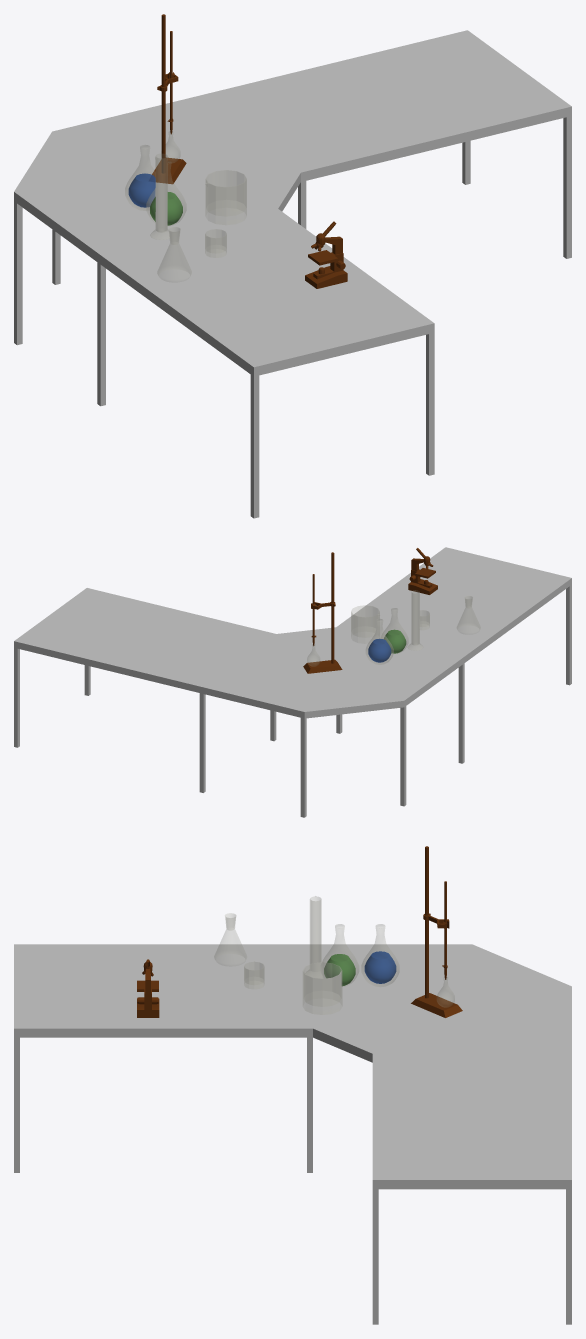
File: science_desk_2 (1).fbx
The picture shows the model from 3 angles, top to bottom: view 1: azimuth 30°, elevation 25°; view 2: azimuth 150°, elevation 25°; view 3: azimuth 270°, elevation 25°; orthographic projection. The views are drawn at different scales.
Parts seen in each view (by area): view 1: pCube16, pCylinder20, polySurface51, pCylinder38, pSphere10, pCylinder21, pSphere8, pCylinder27, pSphere16; view 2: pCube16, polySurface51, pCylinder20, pCylinder38, pSphere10, pSphere8, pCylinder21, pSphere16, pSphere11, pCylinder27; view 3: pCube16, pCylinder20, polySurface51, pSphere10, pSphere8, pCylinder21, pCylinder38, pSphere16, pCylinder27, pSphere11.
Part boxes in pixels (bbox=[...]): pCube16: bbox=[14, 30, 571, 518]; pCylinder20: bbox=[205, 170, 246, 224]; polySurface51: bbox=[152, 14, 186, 184]; pCylinder38: bbox=[305, 221, 347, 288]; pSphere10: bbox=[125, 145, 155, 210]; pCylinder21: bbox=[150, 154, 169, 239]; pSphere8: bbox=[146, 161, 186, 225]; pCylinder27: bbox=[157, 227, 191, 276]; pSphere16: bbox=[128, 173, 155, 207]; pCube16: bbox=[14, 547, 571, 817]; polySurface51: bbox=[303, 552, 342, 673]; pCylinder20: bbox=[351, 605, 379, 642]; pCylinder38: bbox=[408, 548, 437, 594]; pSphere10: bbox=[366, 619, 393, 664]; pSphere8: bbox=[381, 608, 408, 653]; pCylinder21: bbox=[408, 590, 422, 650]; pSphere16: bbox=[368, 638, 391, 662]; pSphere11: bbox=[384, 629, 406, 653]; pCylinder27: bbox=[457, 596, 480, 630]; pCube16: bbox=[14, 944, 571, 1324]; pCylinder20: bbox=[303, 961, 342, 1014]; polySurface51: bbox=[411, 846, 462, 1017]; pSphere10: bbox=[361, 924, 399, 986]; pSphere8: bbox=[321, 924, 358, 986]; pCylinder21: bbox=[306, 896, 322, 977]; pCylinder38: bbox=[137, 959, 159, 1017]; pSphere16: bbox=[364, 951, 396, 983]; pCylinder27: bbox=[214, 913, 246, 960]; pSphere11: bbox=[324, 954, 355, 986].
Bounding box in the file's own units: 280 × 166 × 280.
